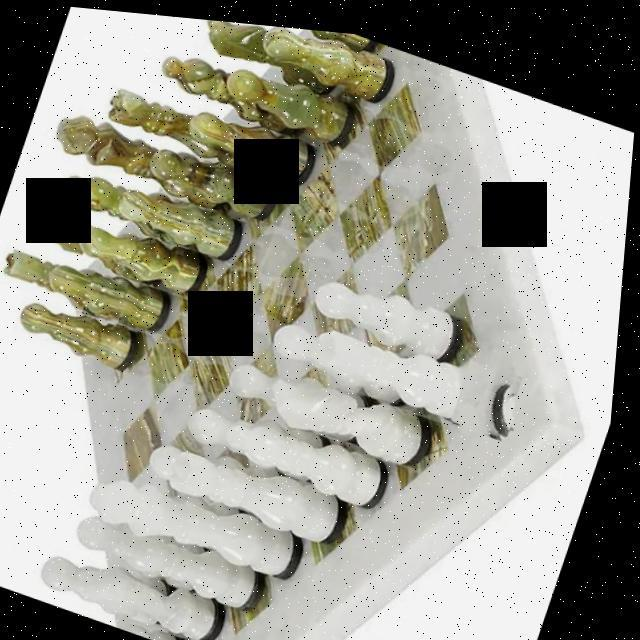chess-table-corners: (451, 342, 534, 432), (85, 266, 135, 323)
